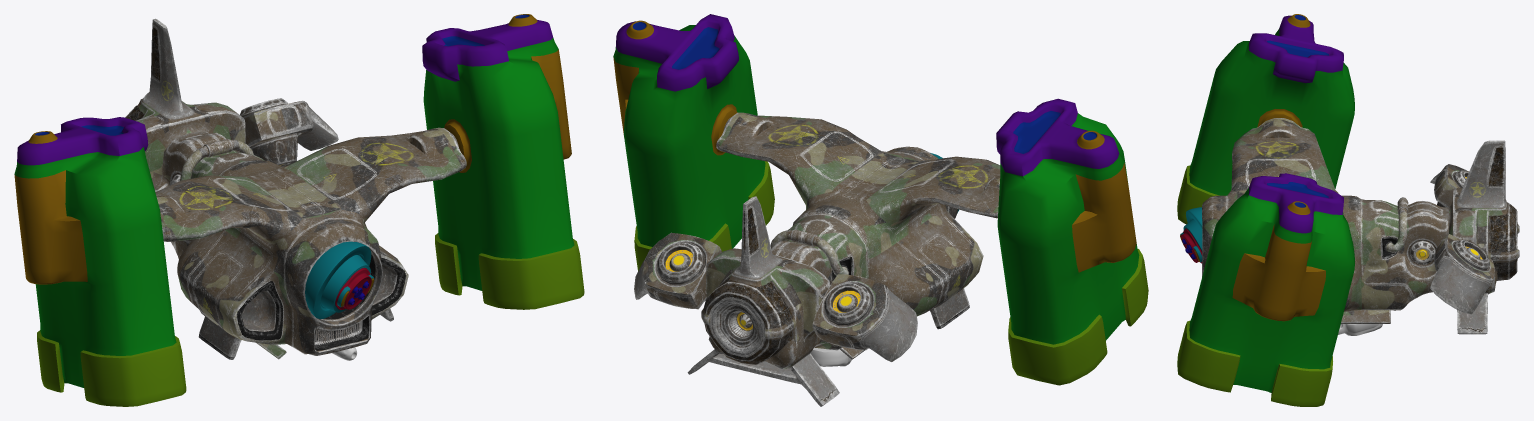
The model's file is drone.fbx.
The picture shows the model from 3 angles, left to right: view 1: azimuth 30°, elevation 25°; view 2: azimuth 150°, elevation 25°; view 3: azimuth 270°, elevation 25°; orthographic projection. The views are drawn at different scales.
Visible parts, largest first — view 1: SDPesawatDrone_EngineRoket, SDPesawatDrone_Badan2_2; view 2: SDPesawatDrone_EngineRoket, SDPesawatDrone_Badan2_2, SDPesawatDrone_Senjata_1; view 3: SDPesawatDrone_EngineRoket, SDPesawatDrone_Badan2_2, SDPesawatDrone_Senjata_1.
Part boxes in pixels (x1=…): SDPesawatDrone_EngineRoket: x1=14, y1=14, x2=584, y2=406; SDPesawatDrone_Badan2_2: x1=125, y1=18, x2=466, y2=359; SDPesawatDrone_EngineRoket: x1=613, y1=14, x2=1148, y2=385; SDPesawatDrone_Badan2_2: x1=687, y1=112, x2=1000, y2=406; SDPesawatDrone_Senjata_1: x1=810, y1=347, x2=851, y2=366; SDPesawatDrone_EngineRoket: x1=1177, y1=14, x2=1494, y2=406; SDPesawatDrone_Badan2_2: x1=1180, y1=118, x2=1519, y2=334; SDPesawatDrone_Senjata_1: x1=1338, y1=324, x2=1382, y2=335.
Size of the model in its own units: 2671 by 1326 by 1845.
